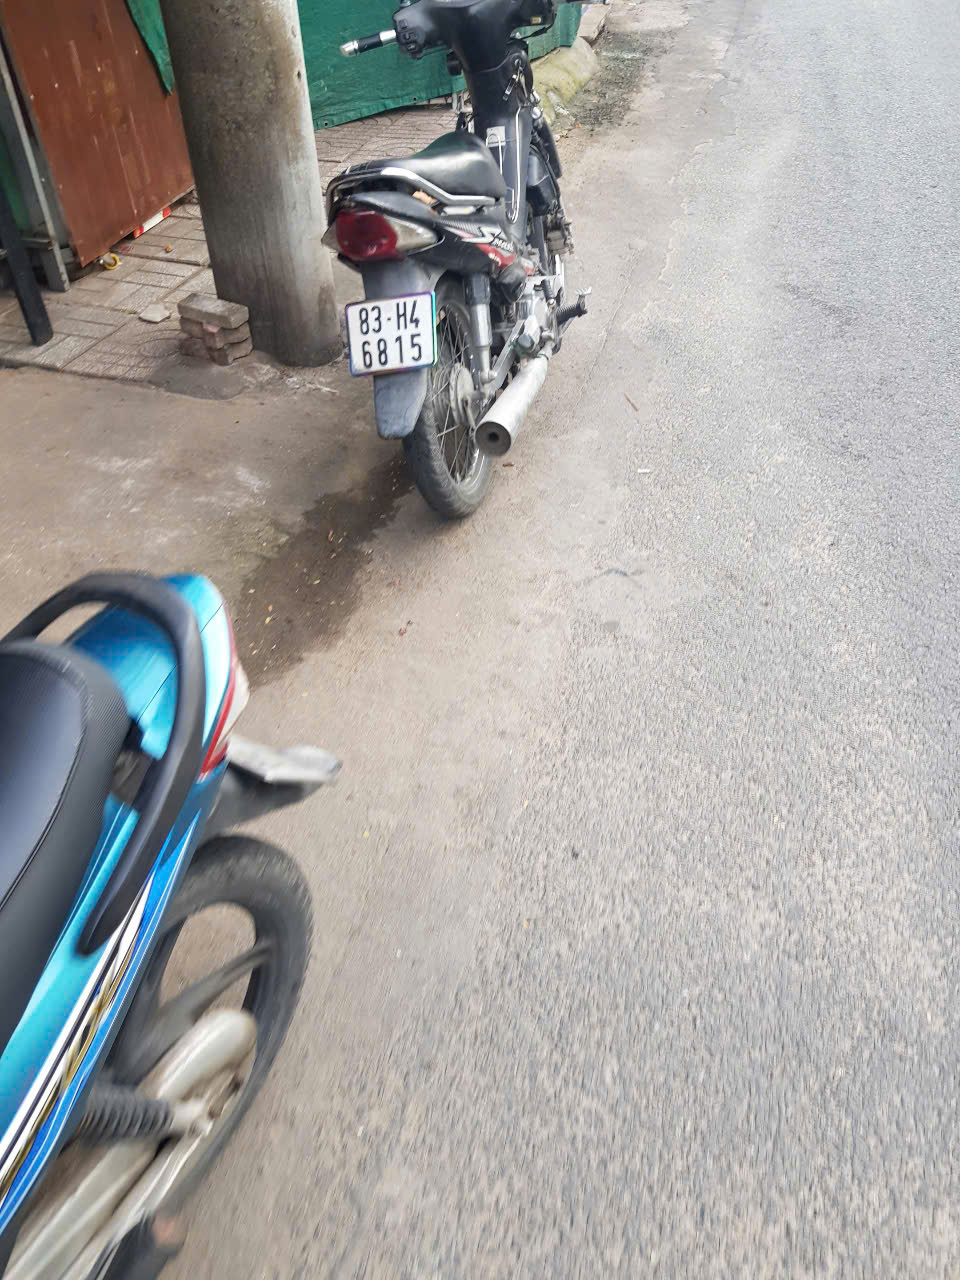bien_so: (346, 295, 437, 373)
